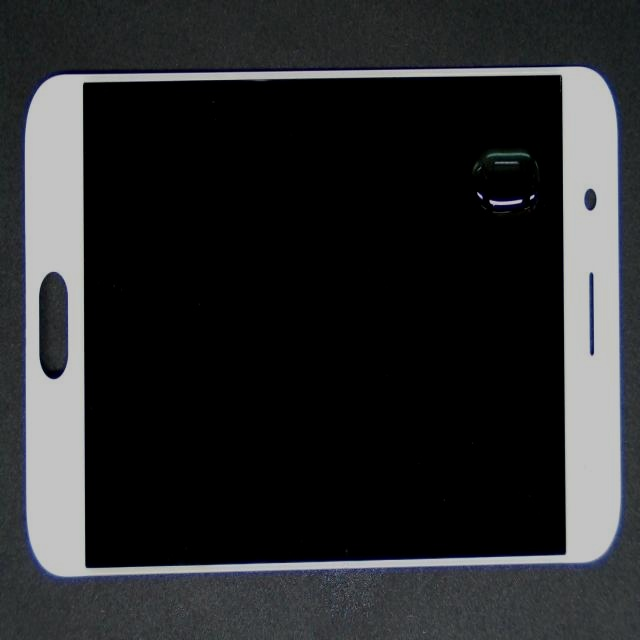oil: (235, 61, 640, 267)
